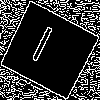I: (24, 25, 56, 72)
